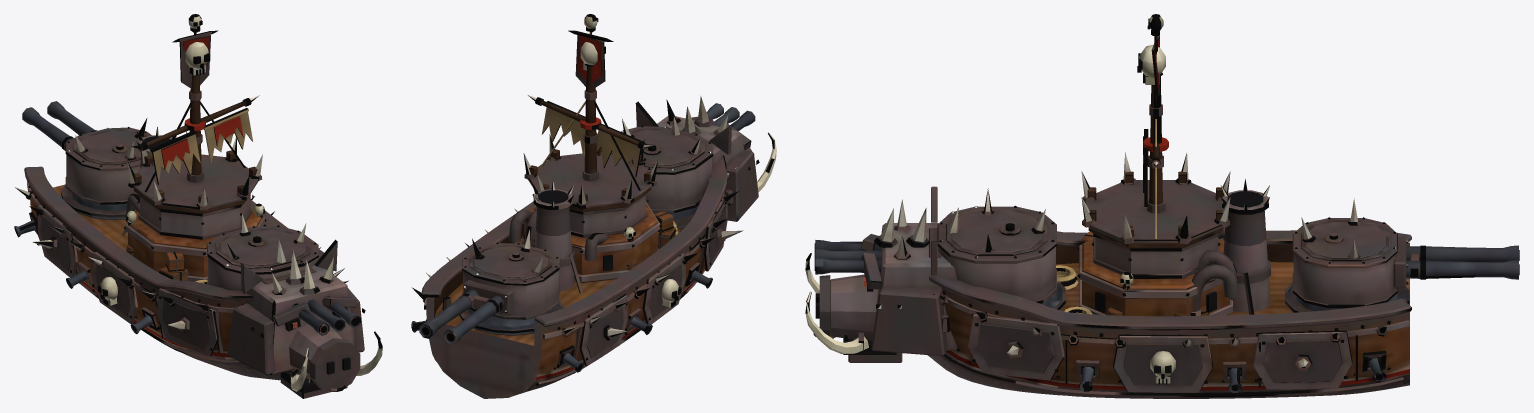
The model's file is orc_frigate.glb.
3 renders of one model, left to right at view 1: azimuth 30°, elevation 25°; view 2: azimuth 150°, elevation 25°; view 3: azimuth 270°, elevation 25°, orthographic. The views are drawn at different scales.
Parts seen in each view (by area): view 1: Hull, Turret2, Turret1, Sail, Flag, Cannon2, Cannon1; view 2: Hull, Turret2, Turret1, Sail, Cannon2, Flag, Cannon1; view 3: Hull, Turret2, Turret1, Cannon2, Cannon1, Flag, Sail.
Boxes of the visible parts, left/top/right/bottom form: Hull: left=14, top=74, right=382, bottom=398; Turret2: left=61, top=118, right=151, bottom=219; Turret1: left=206, top=213, right=318, bottom=290; Sail: left=131, top=95, right=259, bottom=184; Flag: left=172, top=14, right=218, bottom=88; Cannon2: left=22, top=101, right=96, bottom=150; Cannon1: left=291, top=295, right=360, bottom=335; Hull: left=411, top=63, right=776, bottom=398; Turret2: left=459, top=230, right=563, bottom=335; Turret1: left=611, top=118, right=713, bottom=228; Sail: left=528, top=95, right=654, bottom=177; Cannon2: left=419, top=289, right=504, bottom=344; Flag: left=568, top=14, right=613, bottom=88; Cannon1: left=706, top=103, right=755, bottom=131; Hull: left=805, top=72, right=1411, bottom=398; Turret2: left=1285, top=198, right=1409, bottom=312; Turret1: left=929, top=188, right=1065, bottom=310; Cannon2: left=1406, top=245, right=1519, bottom=279; Cannon1: left=814, top=240, right=881, bottom=274; Flag: left=1137, top=14, right=1165, bottom=103; Sail: left=1143, top=129, right=1168, bottom=207.
Bounding box in the file's own units: 3.84 × 5.76 × 9.99.
2 materials, 2 textured.
